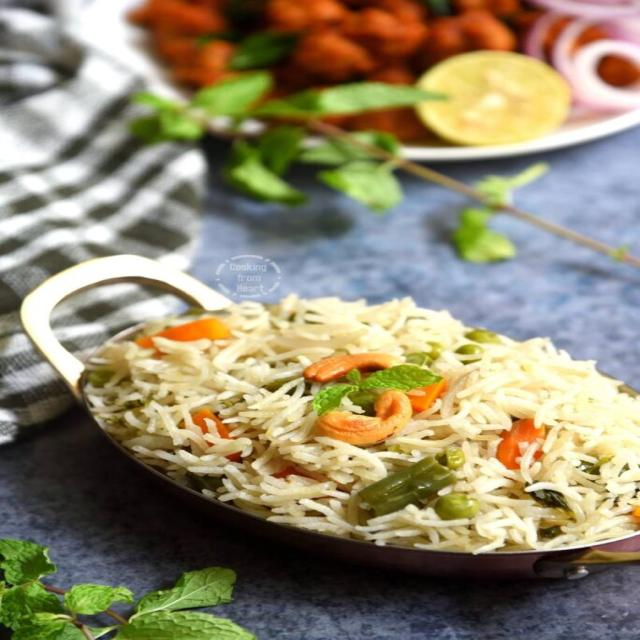veg palav: (62, 285, 640, 573)
